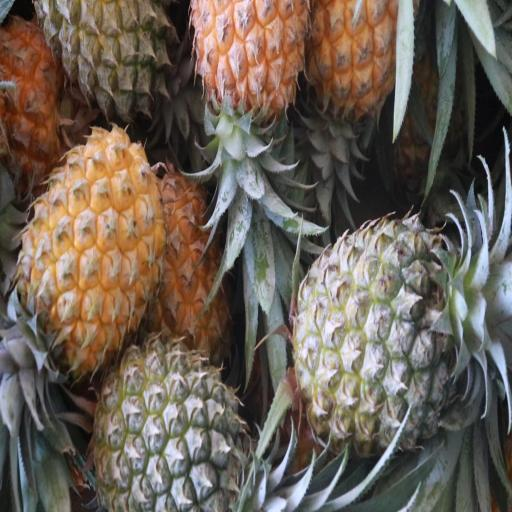------------------------------: (41, 0, 172, 123)
Pineapple - v8 v1: (19, 128, 166, 372), (149, 174, 238, 360), (190, 0, 308, 125), (306, 0, 414, 129)
